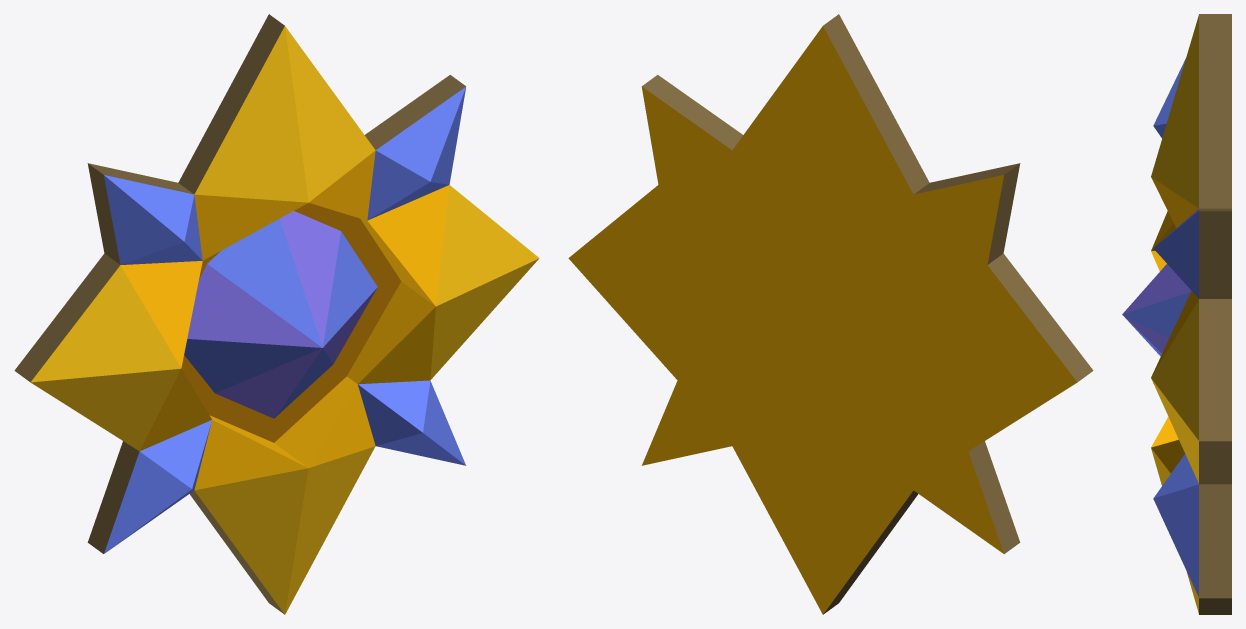
The model's file is Ornament_04.glb.
The picture shows the model from 3 angles, left to right: view 1: azimuth 30°, elevation 25°; view 2: azimuth 150°, elevation 25°; view 3: azimuth 270°, elevation 25°; orthographic projection.
Parts seen in each view (by area): view 1: Ornament_04; view 2: Ornament_04; view 3: Ornament_04.
Boxes of the visible parts, box(x1,y1,x2,y2) form: Ornament_04: box(14, 14, 539, 614); Ornament_04: box(568, 14, 1093, 614); Ornament_04: box(1122, 14, 1231, 614).
Size of what is drawn, in the model's own units: 0.4598 by 0.5085 by 0.0842.
Materials: 1 (1 with a texture image).
